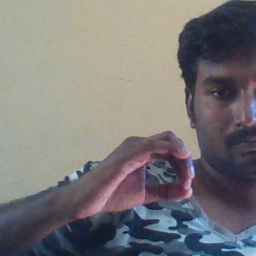O: (80, 131, 196, 218)
